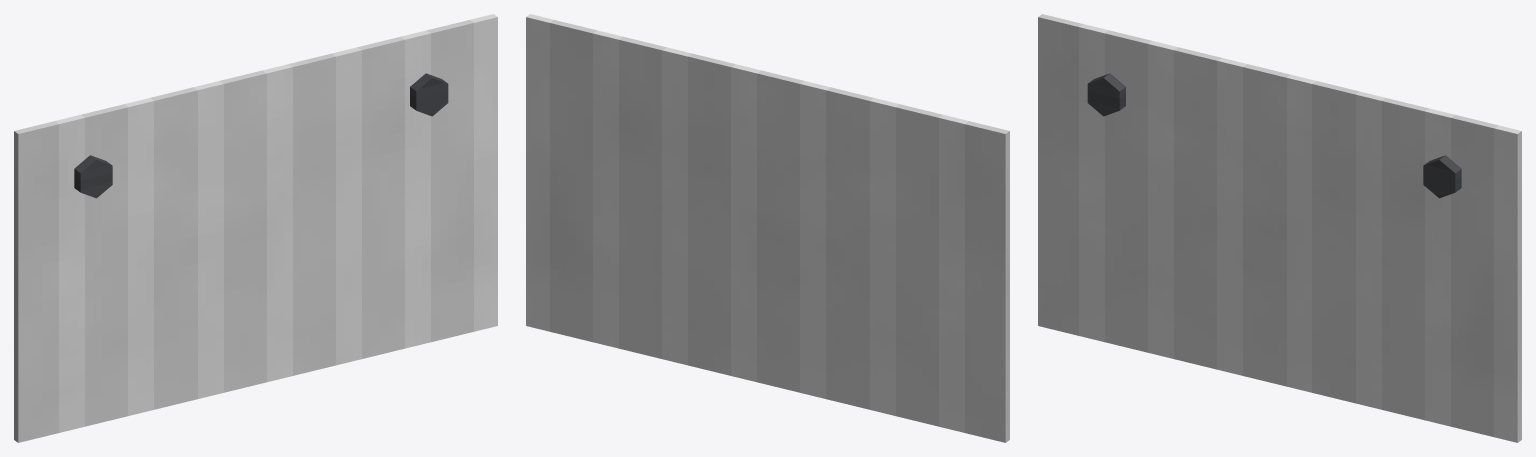
The model's file is para_barro_fabrica.glb.
3 views of the same model, side by side, from view 1: azimuth 30°, elevation 25°; view 2: azimuth 150°, elevation 25°; view 3: azimuth 330°, elevation 25° (orthographic).
Visible parts, largest first — view 1: para_barro_fabrica; view 2: para_barro_fabrica; view 3: para_barro_fabrica.
Boxes of the visible parts, <box> form: para_barro_fabrica: <box>14,14,497,442</box>; para_barro_fabrica: <box>526,14,1009,442</box>; para_barro_fabrica: <box>1038,14,1521,442</box>.
Bounding box in the file's own units: 0.26 × 0.16 × 0.01.
Materials: 2 (2 with a texture image).
